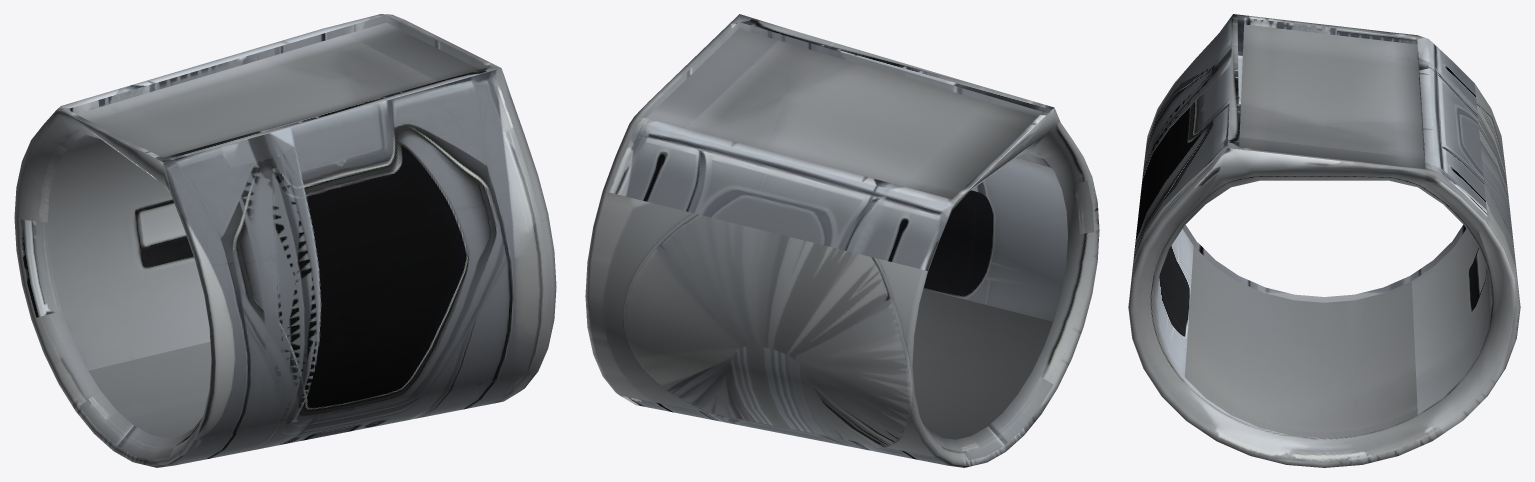
File: Arm_RE.fbx
3 views of the same model, side by side, from view 1: azimuth 30°, elevation 25°; view 2: azimuth 150°, elevation 25°; view 3: azimuth 270°, elevation 25° (orthographic). The views are drawn at different scales.
Parts seen in each view (by area): view 1: Cylinder; view 2: Cylinder; view 3: Cylinder.
Boxes of the visible parts, left/top/right/bottom form: Cylinder: left=14, top=14, right=556, bottom=467; Cylinder: left=585, top=14, right=1099, bottom=467; Cylinder: left=1128, top=14, right=1520, bottom=467.
Size of the model in its own units: 17.67 by 17.95 by 19.85.
Materials: 1 (1 with a texture image).
